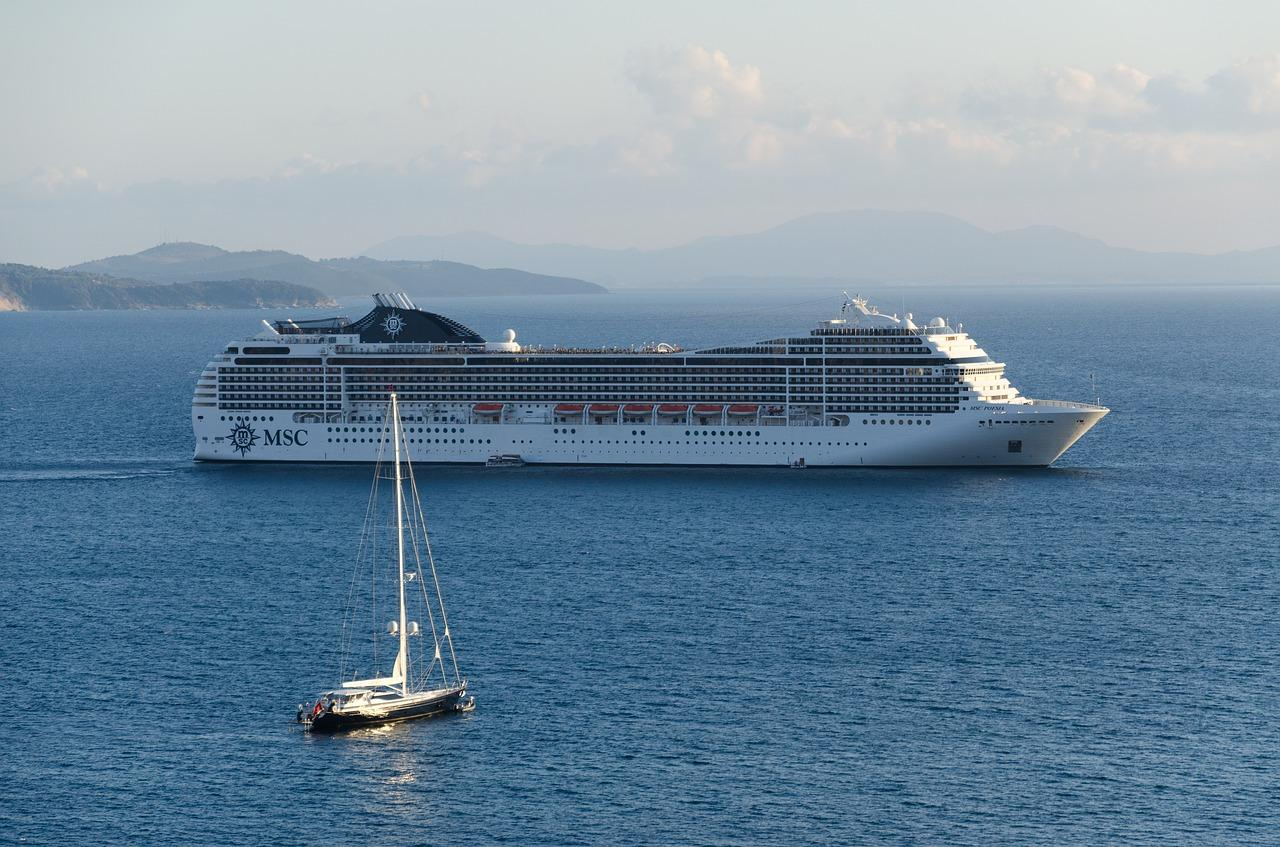Ship: (190, 290, 1114, 477), (301, 391, 475, 734)
